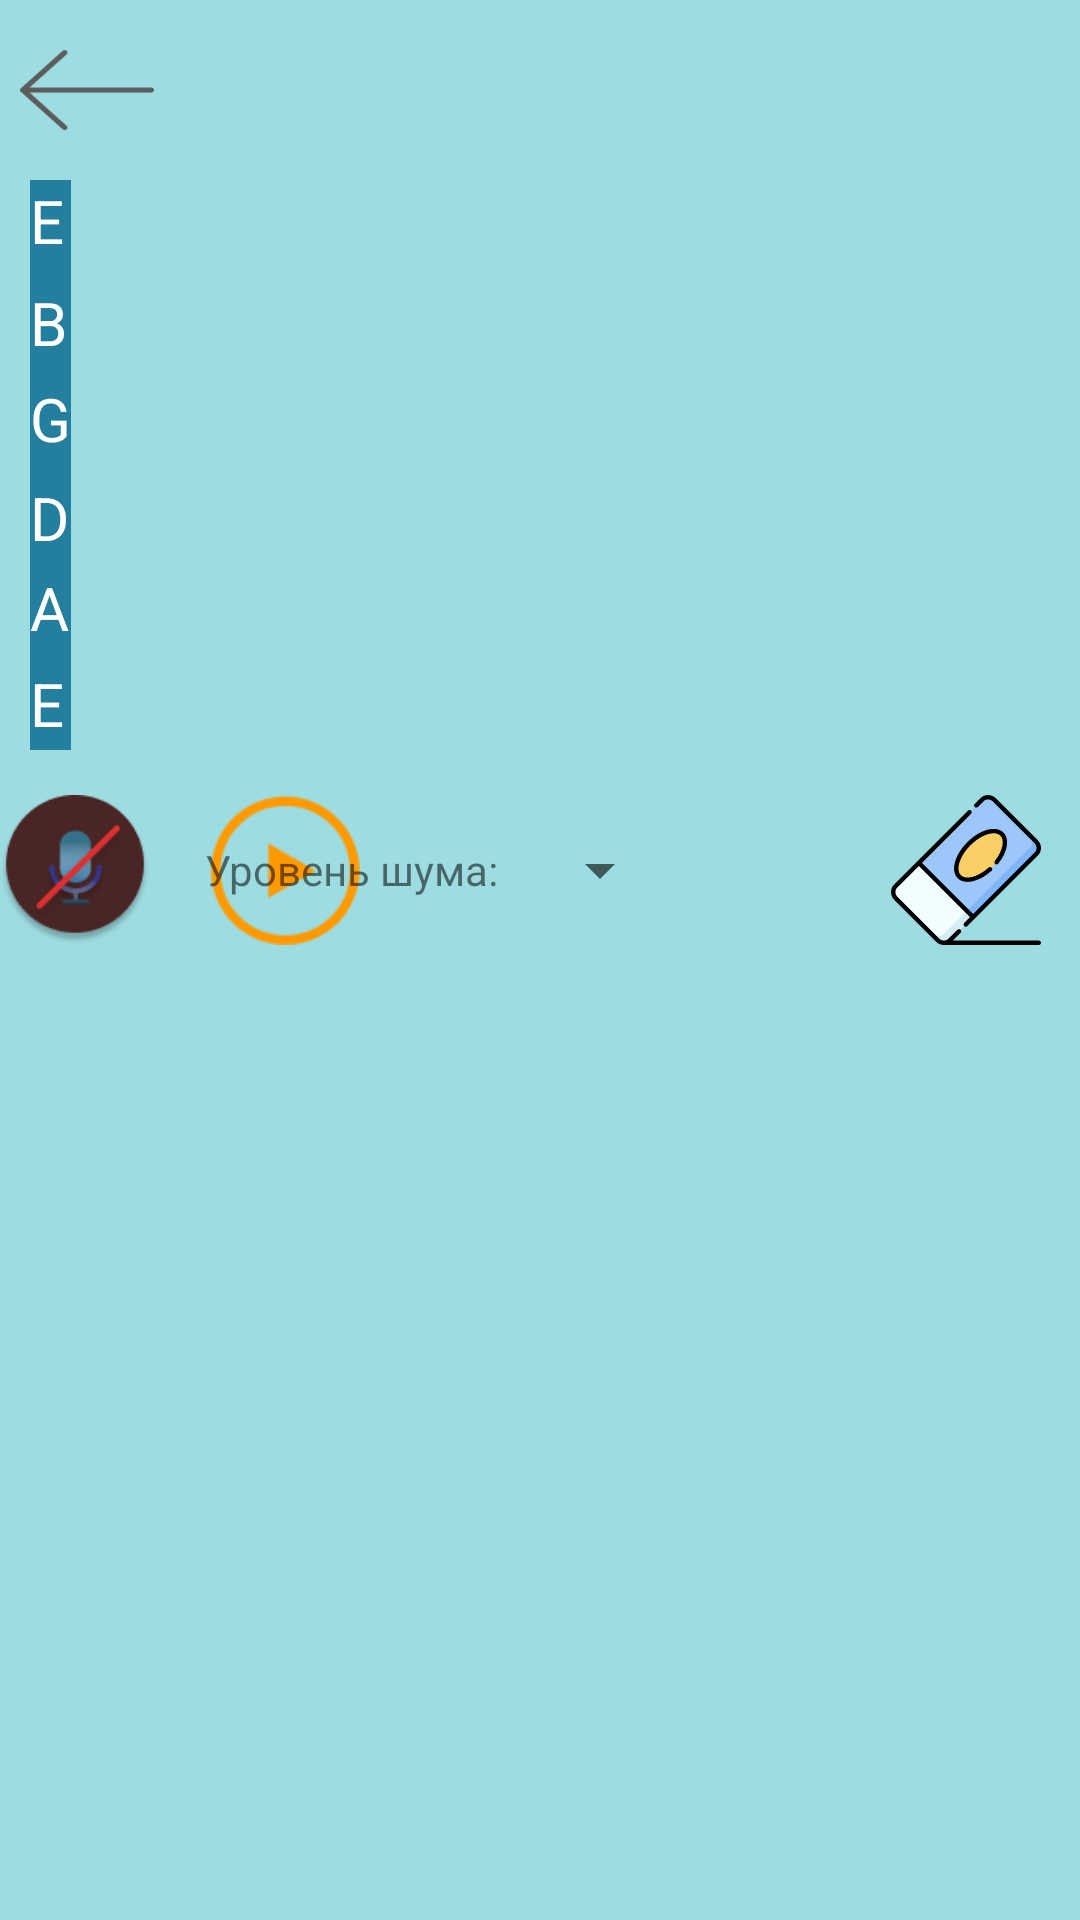

Screen size 1080px×1920px. Icon name, then its box in pixels as (x1, y1, x2, y2):
arrow: (20, 50, 154, 130)
clear: (891, 795, 1041, 945)
no microphone: (5, 795, 145, 939)
